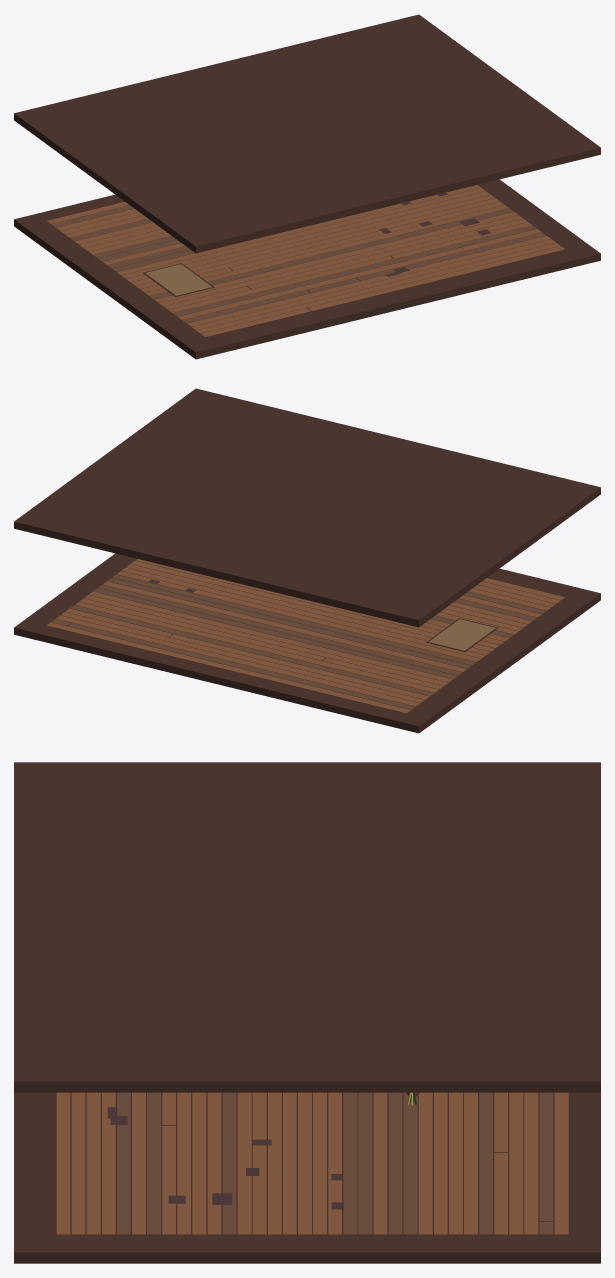
The model's file is inn_shell.glb.
3 views of the same model, one above another, from view 1: azimuth 30°, elevation 25°; view 2: azimuth 150°, elevation 25°; view 3: azimuth 270°, elevation 25° (orthographic). The views are drawn at different scales.
Visible parts, largest first — view 1: floor_base; view 2: floor_base; view 3: floor_base.
Boxes of the visible parts, x1,y1,x2,y2 form: floor_base: (14,14,600,359); floor_base: (14,388,600,733); floor_base: (14,762,600,1263).
Size of the model in its own units: 18 by 4.8 by 14.
